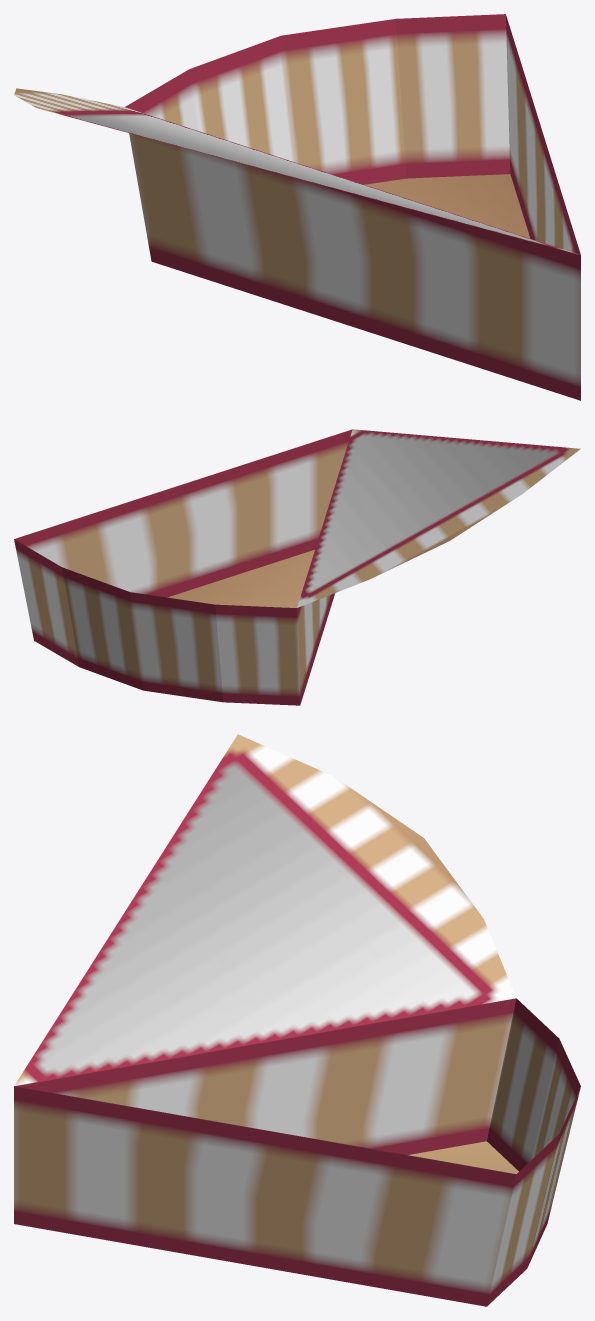
The model's file is PieCartonEmpty.fbx.
3 renders of one model, top to bottom at view 1: azimuth 30°, elevation 25°; view 2: azimuth 150°, elevation 25°; view 3: azimuth 270°, elevation 25°, orthographic. The views are drawn at different scales.
Parts seen in each view (by area): view 1: PieCarton.001; view 2: PieCarton.001; view 3: PieCarton.001.
Part boxes in pixels (x1,y1,x2,y2): PieCarton.001: (14, 14, 580, 400); PieCarton.001: (14, 429, 580, 705); PieCarton.001: (14, 734, 580, 1306).
Bounding box in the file's own units: 45.75 × 21.98 × 38.52.
